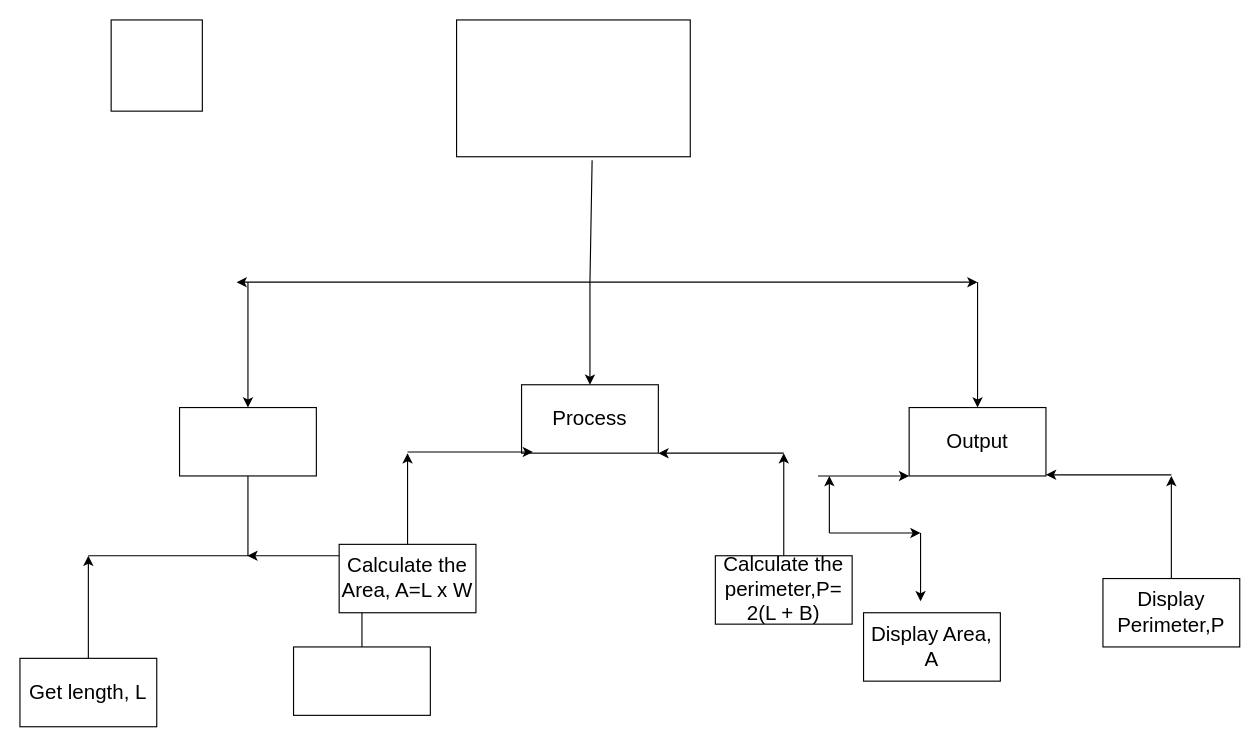
Some shapes in this 1260 by 747 pixel diagram are drawn without their labels. The centre of each missing label's shape, as x and y in pixels:
Area & Perimeter of a Rectangle with user input .: the point at 572,88
Get width, W: the point at 361,680
Input: the point at 247,441
